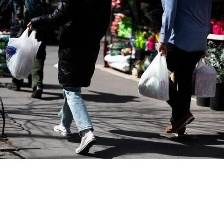plastic_bag: (3, 25, 45, 81), (134, 49, 174, 101), (187, 55, 219, 99)
